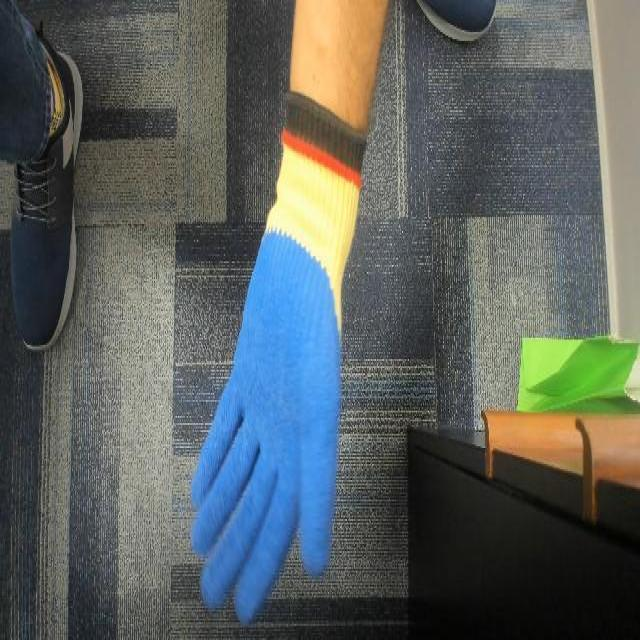Gloves: (218, 97, 362, 600)
